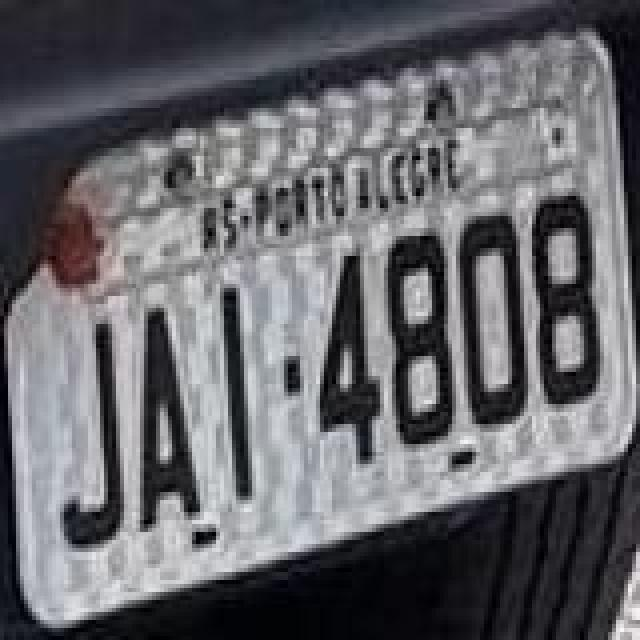1: (222, 280, 258, 504)
4: (318, 252, 386, 468)
8: (384, 228, 456, 452), (532, 192, 604, 408)
A: (136, 308, 200, 540)
J: (58, 314, 126, 550)
O: (458, 212, 534, 428)
